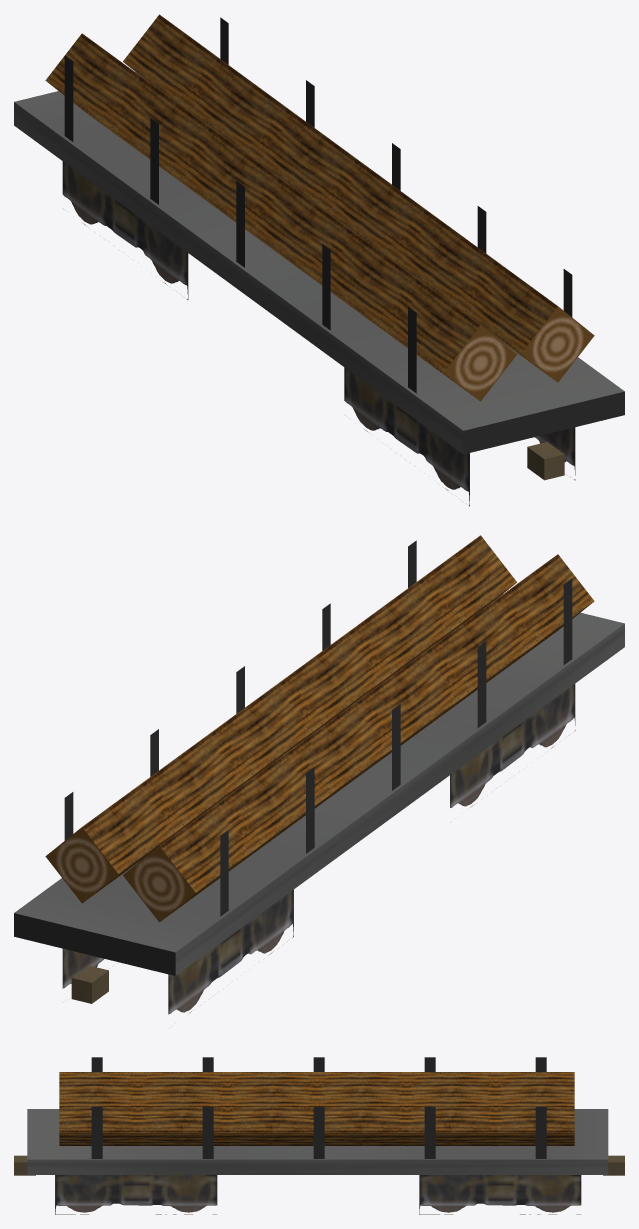
The model's file is logcar.obj.
3 renders of one model, top to bottom at view 1: azimuth 30°, elevation 25°; view 2: azimuth 150°, elevation 25°; view 3: azimuth 270°, elevation 25°, orthographic. The views are drawn at different scales.
Visible parts, largest first — view 1: Cube.008; view 2: Cube.008; view 3: Cube.008.
Part boxes in pixels (x1,y1,x2,y2): Cube.008: (14,14,624,506); Cube.008: (14,535,624,1014); Cube.008: (14,1057,624,1214).
Size of the model in its own units: 2.95 by 3.13 by 14.94.
1 material, 1 textured.
